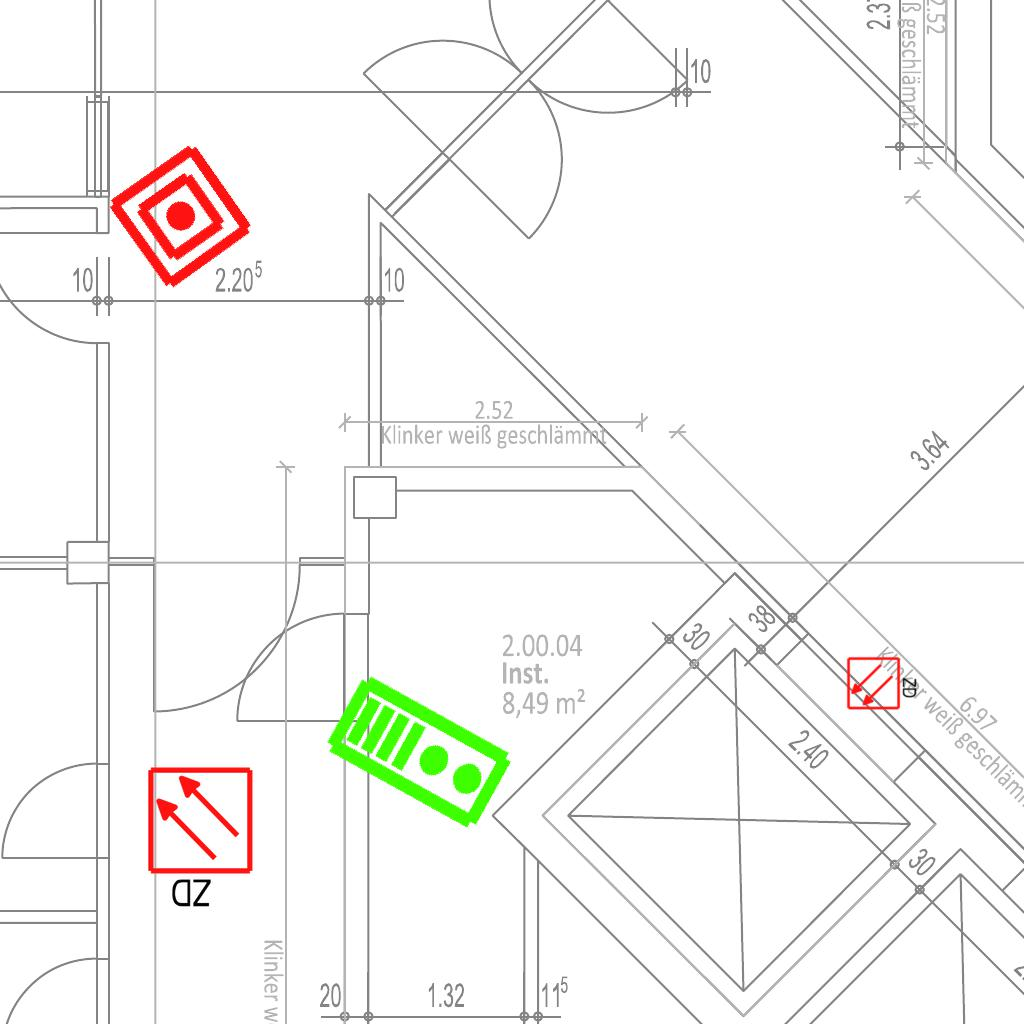Gegensprechanlage_mit_Video: (320, 666, 521, 836)
NAM-Nichtautomatischer_Melder: (101, 137, 260, 296)
ZD_Melder_in_Zwischendecke_mit_Revisionsoeffnung_mind_40_x_40_cm: (145, 765, 259, 914), (846, 654, 920, 711)
